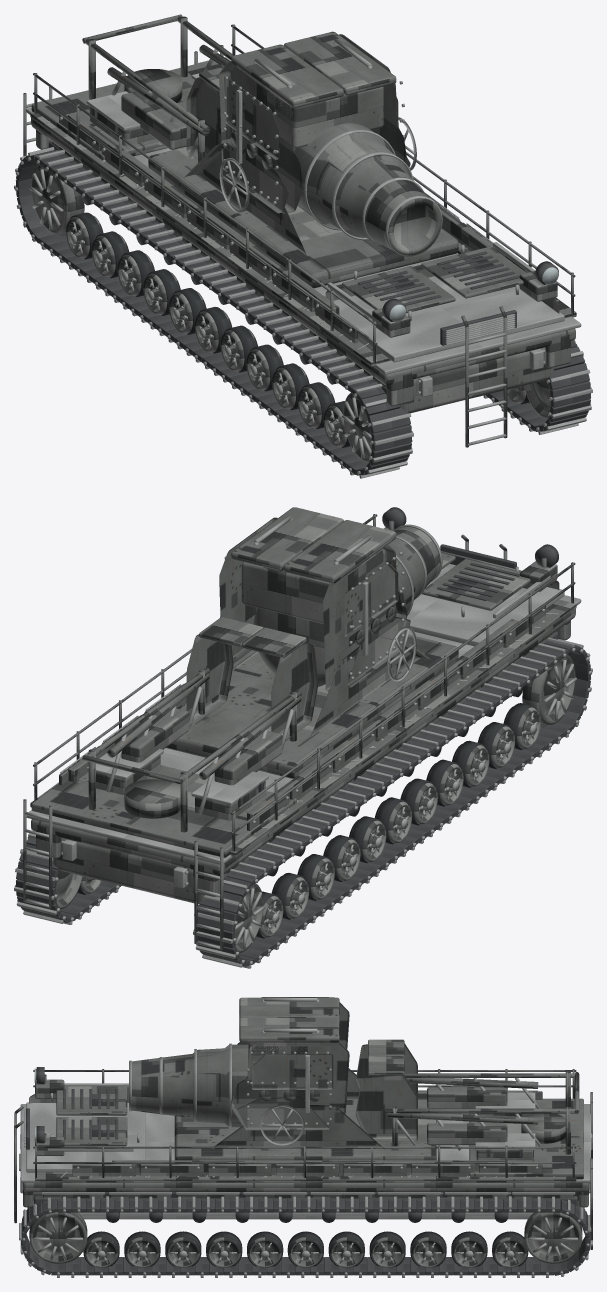
Rendered from pgf-urban.glb.
The picture shows the model from 3 angles, top to bottom: view 1: azimuth 30°, elevation 25°; view 2: azimuth 150°, elevation 25°; view 3: azimuth 270°, elevation 25°; orthographic projection. The views are drawn at different scales.
Visible parts, largest first — view 1: cradle-graphite-painted-steel-batch, running-gear-panel-shadow-batch, chassis-graphite-painted-steel-batch, platform-graphite-painted-steel-batch, running-gear-cast-edge-steel-batch, carriage-graphite-painted-steel-batch, barrel-tube-exterior-batch, running-gear-graphite-painted-steel-batch, engine-cast-edge-steel-batch, mechanisms-graphite-painted-steel-batch, engine-graphite-painted-steel-batch, running-gear-dark-running-bands-batch (+6 smaller); view 2: platform-graphite-painted-steel-batch, cradle-graphite-painted-steel-batch, running-gear-panel-shadow-batch, chassis-graphite-painted-steel-batch, mechanisms-graphite-painted-steel-batch, carriage-graphite-painted-steel-batch, running-gear-cast-edge-steel-batch, running-gear-graphite-painted-steel-batch, running-gear-dark-running-bands-batch, chassis-cast-edge-steel-batch, engine-cast-edge-steel-batch, barrel-tube-exterior-batch (+6 smaller); view 3: running-gear-panel-shadow-batch, chassis-graphite-painted-steel-batch, mechanisms-graphite-painted-steel-batch, platform-graphite-painted-steel-batch, cradle-graphite-painted-steel-batch, running-gear-graphite-painted-steel-batch, carriage-graphite-painted-steel-batch, chassis-cast-edge-steel-batch, barrel-tube-exterior-batch, running-gear-cast-edge-steel-batch, engine-graphite-painted-steel-batch, engine-cast-edge-steel-batch (+7 smaller).
Boxes of the visible parts, x1,y1,x2,y2 form: cradle-graphite-painted-steel-batch: (219, 31, 410, 213); running-gear-panel-shadow-batch: (15, 150, 590, 475); chassis-graphite-painted-steel-batch: (31, 112, 575, 413); platform-graphite-painted-steel-batch: (23, 24, 576, 366); running-gear-cast-edge-steel-batch: (14, 147, 592, 478); carriage-graphite-painted-steel-batch: (148, 143, 458, 288); barrel-tube-exterior-batch: (293, 123, 441, 255); running-gear-graphite-painted-steel-batch: (31, 164, 550, 462); engine-cast-edge-steel-batch: (327, 242, 564, 445); mechanisms-graphite-painted-steel-batch: (82, 14, 233, 162); engine-graphite-painted-steel-batch: (325, 246, 559, 447); running-gear-dark-running-bands-batch: (70, 212, 529, 447); platform-graphite-painted-steel-batch: (23, 514, 576, 950); cradle-graphite-painted-steel-batch: (219, 507, 410, 693); running-gear-panel-shadow-batch: (16, 641, 590, 966); chassis-graphite-painted-steel-batch: (31, 604, 575, 904); mechanisms-graphite-painted-steel-batch: (82, 617, 318, 832); carriage-graphite-painted-steel-batch: (166, 634, 458, 778); running-gear-cast-edge-steel-batch: (14, 637, 592, 968); running-gear-graphite-painted-steel-batch: (56, 655, 575, 953); running-gear-dark-running-bands-batch: (77, 703, 537, 938); chassis-cast-edge-steel-batch: (26, 595, 581, 888); engine-cast-edge-steel-batch: (406, 564, 564, 646); barrel-tube-exterior-batch: (253, 526, 439, 686); running-gear-panel-shadow-batch: (21, 1198, 590, 1275); chassis-graphite-painted-steel-batch: (23, 1091, 588, 1208); mechanisms-graphite-painted-steel-batch: (355, 1039, 579, 1154); platform-graphite-painted-steel-batch: (33, 1069, 592, 1249); cradle-graphite-painted-steel-batch: (231, 997, 349, 1130); running-gear-graphite-painted-steel-batch: (29, 1212, 582, 1267); carriage-graphite-painted-steel-batch: (174, 1068, 436, 1160); chassis-cast-edge-steel-batch: (20, 1090, 592, 1219); barrel-tube-exterior-batch: (129, 1044, 248, 1127); running-gear-cast-edge-steel-batch: (19, 1153, 592, 1277); engine-graphite-painted-steel-batch: (14, 1074, 128, 1223); engine-cast-edge-steel-batch: (14, 1083, 145, 1220).
Bounding box in the file's own units: 3.69 × 4.49 × 10.6.
6 materials, 6 textured.
